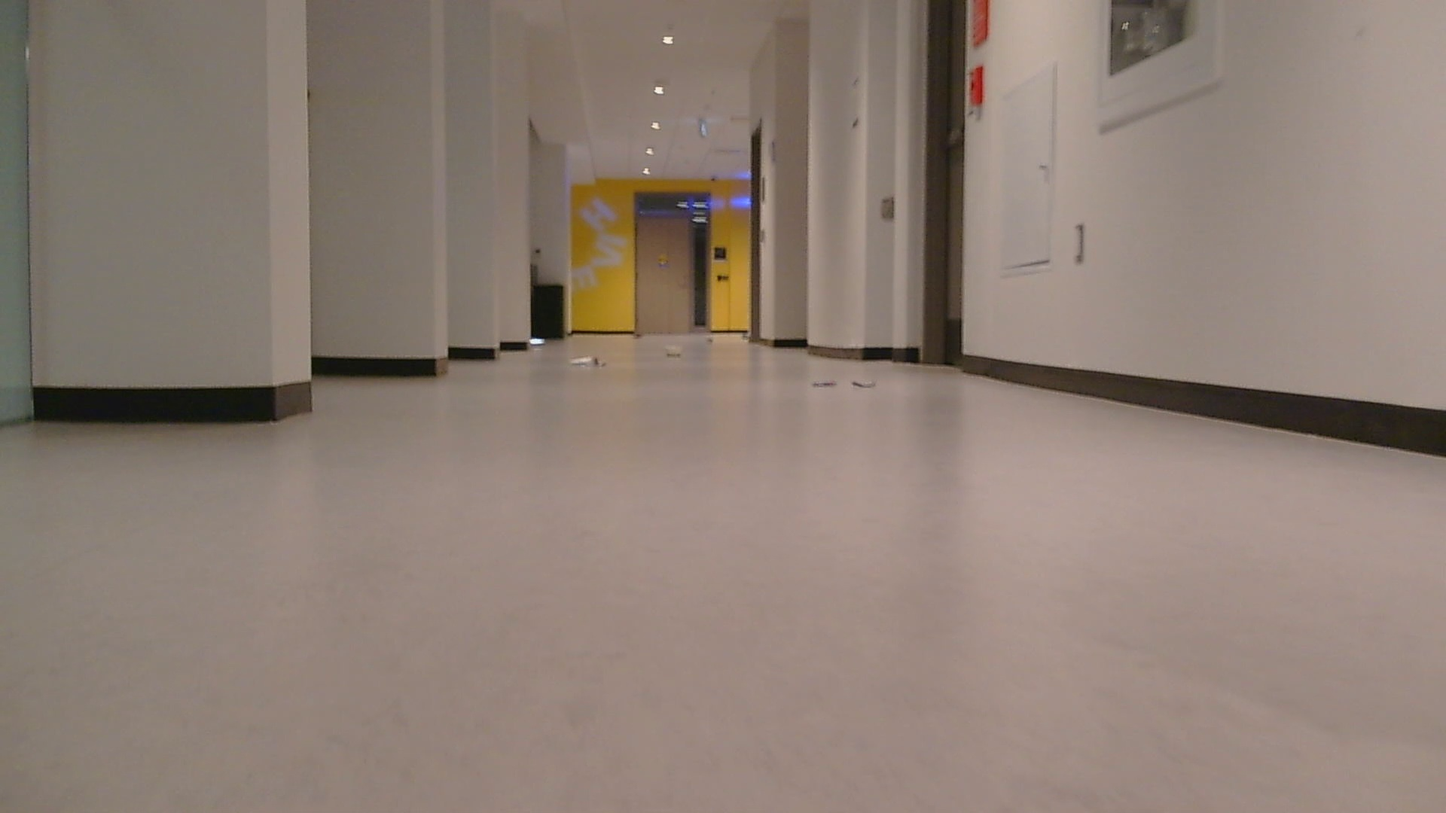carton: (807, 370, 904, 398), (567, 352, 619, 370), (666, 345, 691, 355)
